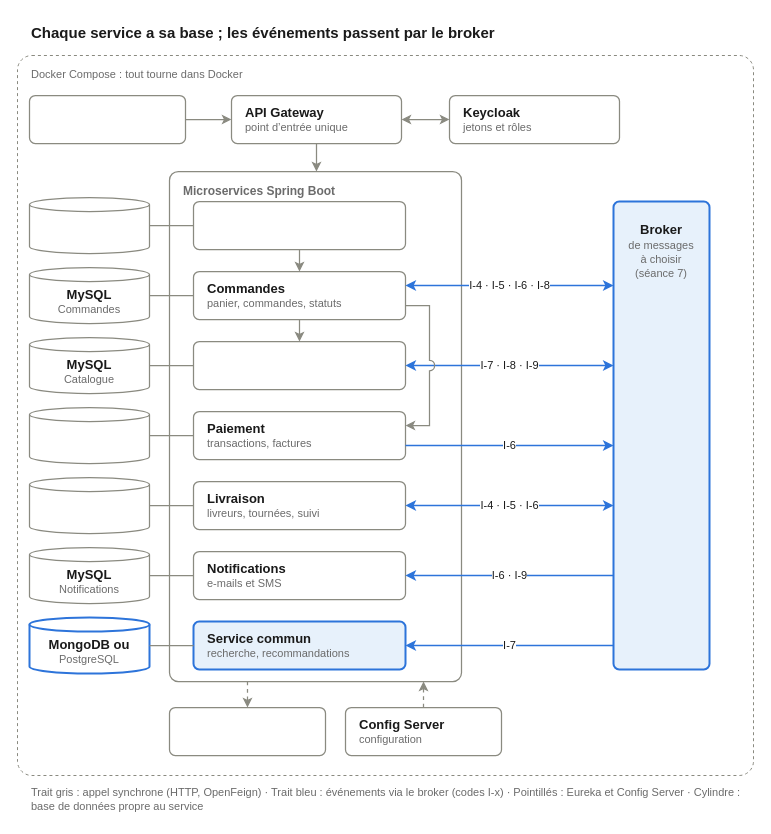
This 771x834 diagram has some shape labels left out. The shapes that lost their labels are listed below. From the top down, each one's centre as x and y in pixels, then its label:
At (107,119): "Front-end application Web".
At (89,225): "MySQL Avis".
At (299,225): "Avis notes et commentaires".
At (299,365): "Catalogue produits, catégories, stock".
At (89,435): "MySQL Paiement".
At (89,505): "MySQL Livraison".
At (247,731): "Eureka registre de services".
